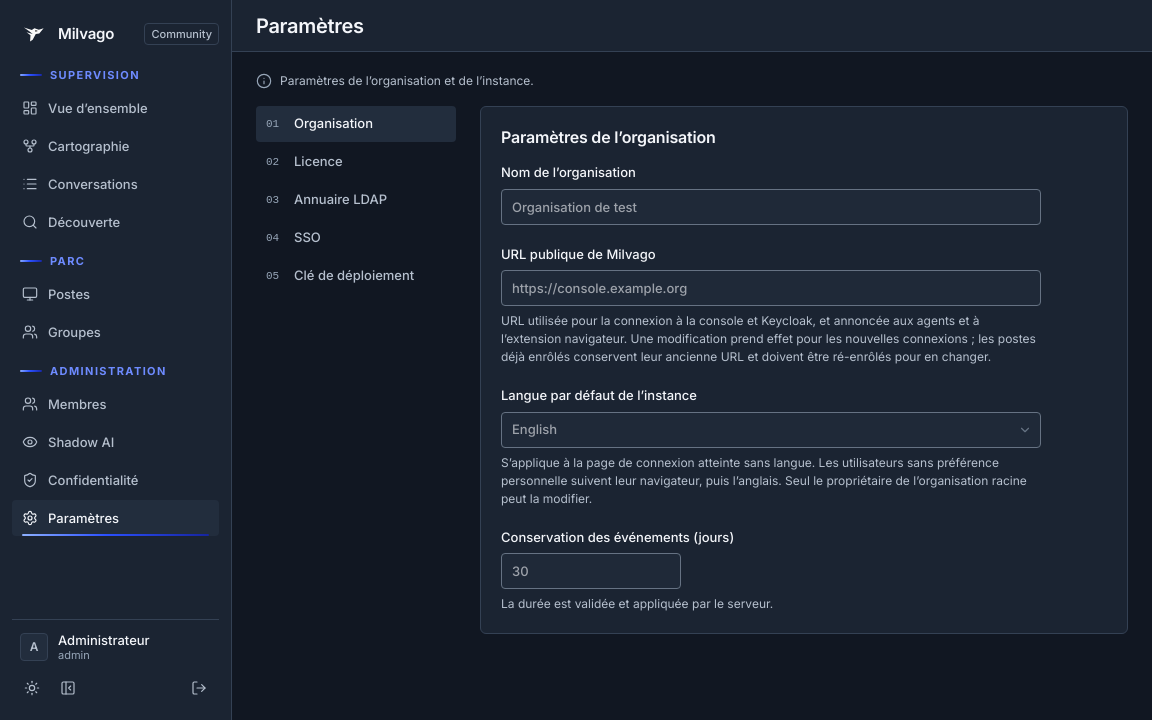
Test: Identity: profile, member account types and LDAP directory › realigns the schema fields on the selected directory vendor
Click the button "03 Annuaire LDAP" at (356,200), box [256, 182, 456, 218]
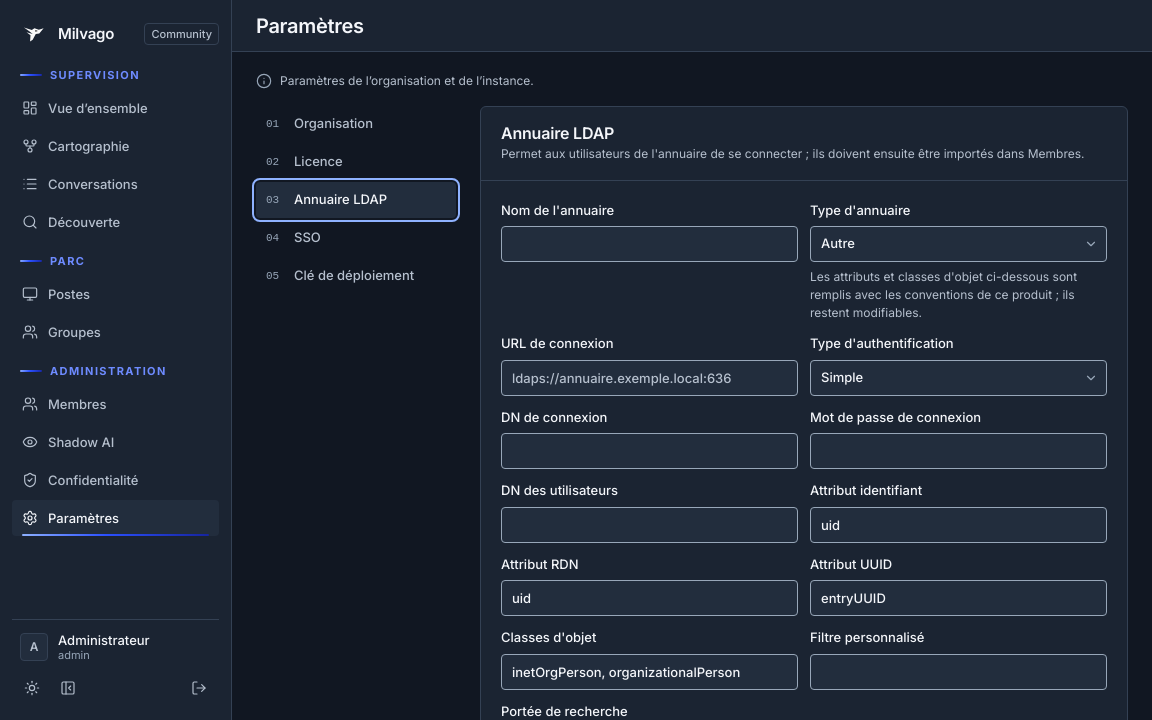
Expected: the field labelled "Attribut UUID" holds "entryUUID", [810, 580, 1107, 616]
Select "Active Directory" in the dropdown labelled "Type d'annuaire" at (958,244), box [810, 226, 1107, 262]
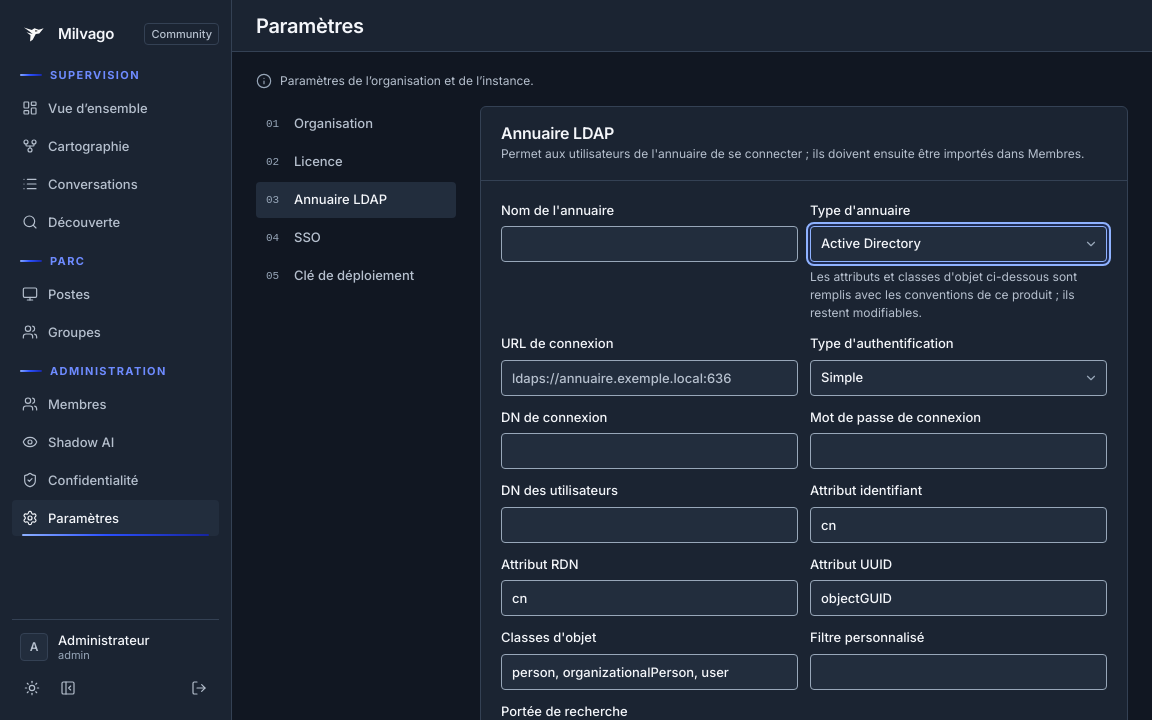
Expected: the field labelled "Attribut identifiant" holds "cn", [810, 507, 1107, 543]
Expected: the field labelled "Attribut RDN" holds "cn", [501, 580, 798, 616]
Expected: the field labelled "Attribut UUID" holds "objectGUID", [810, 580, 1107, 616]
Select "Red Hat Directory Server" in the dropdown labelled "Type d'annuaire" at (958,244), box [810, 226, 1107, 262]
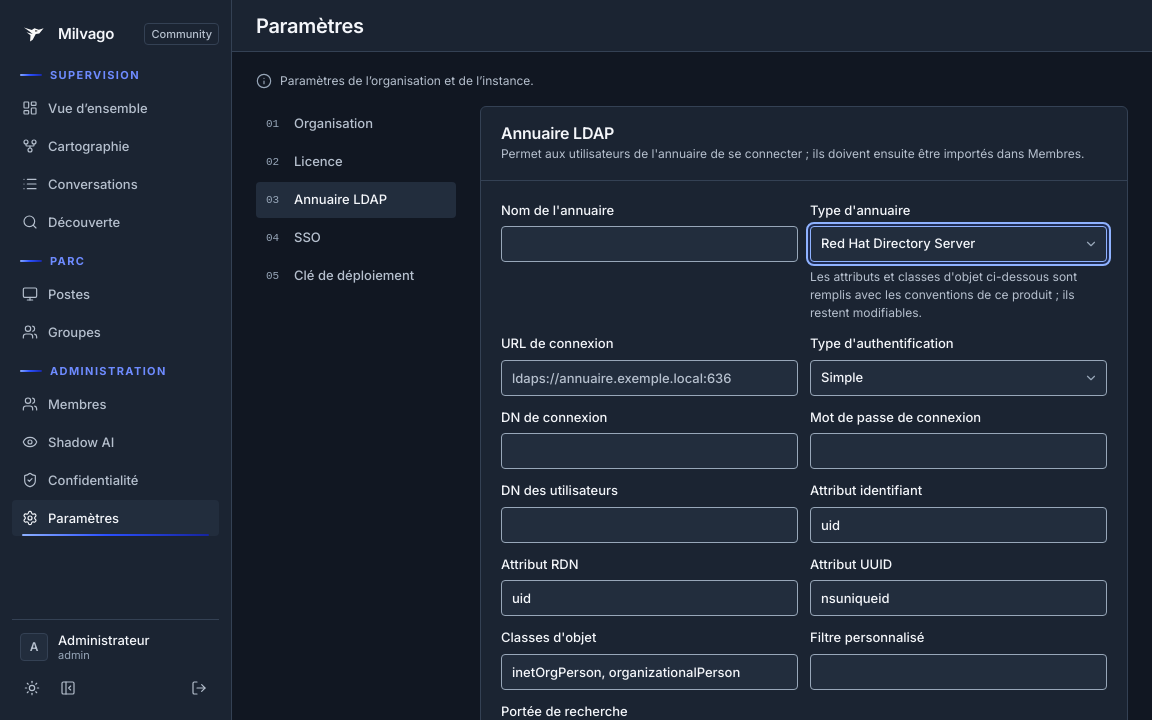
Expected: the field labelled "Attribut UUID" holds "nsuniqueid", [810, 580, 1107, 616]
Expected: the field labelled "Classes d'objet" holds "inetOrgPerson, organizationalPerson", [501, 654, 798, 690]
